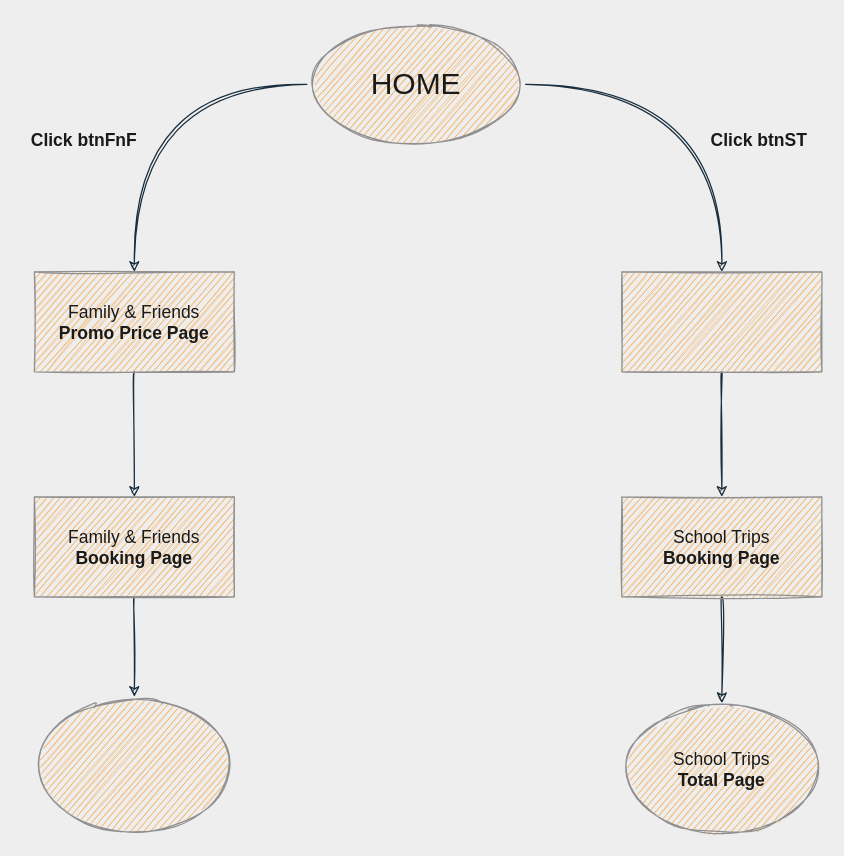
Image size: 844x856. Some labels were removed from this diagram. The centre of each missing label's shape, as x and y in pixels:
"Family & Friends Total Page" goes at point 133,765.
"School Trips Promo Price Page" goes at point 721,321.
